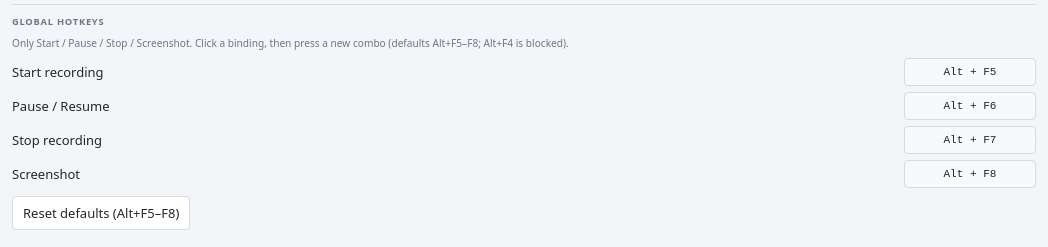
Test case: HotkeySettings › leaves listening mode when Escape is pressed
This screenshot has width=1048, height=247.
Click the button "Alt + F5". click: (970, 72)
box: 904,58 -> 1036,86
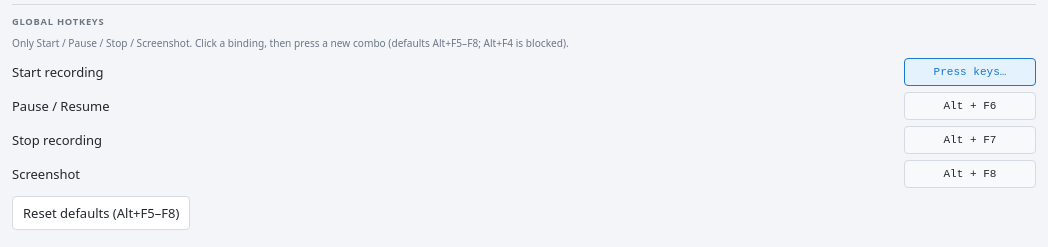
Press Escape
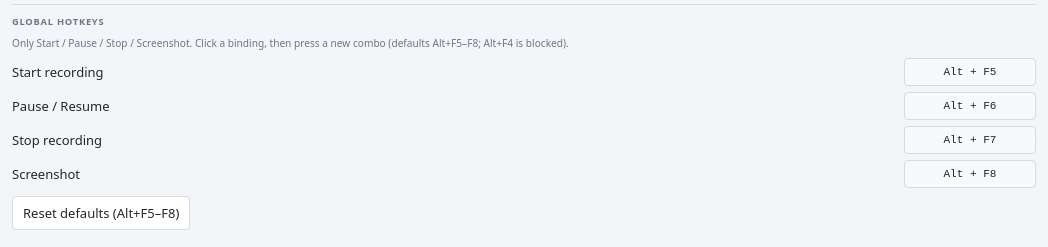
Check: the button "Press keys…" is gone
